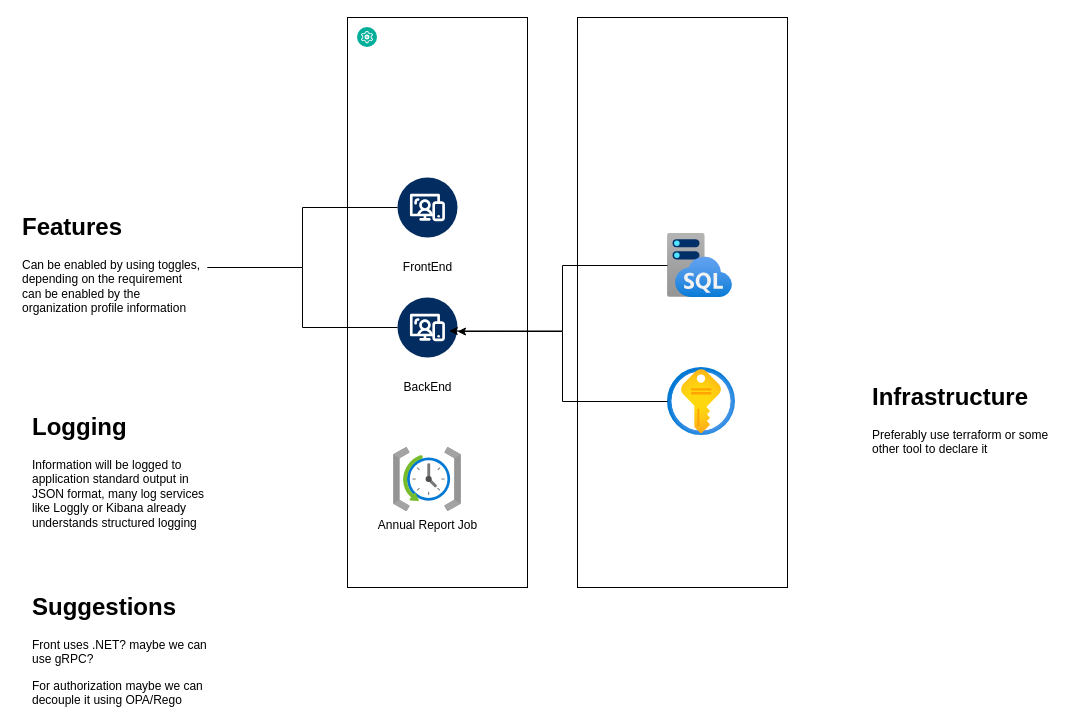
The diagram is 1074 pixels wide and 725 high, and some of its shapes have lost their labels. The shapes that lost their labels are listed below. From the top down, each one's box as (x1, y1, x2, y2) in pixels, then its label:
(357, 27, 377, 47): Cluster
(667, 367, 735, 435): azure keyvault
